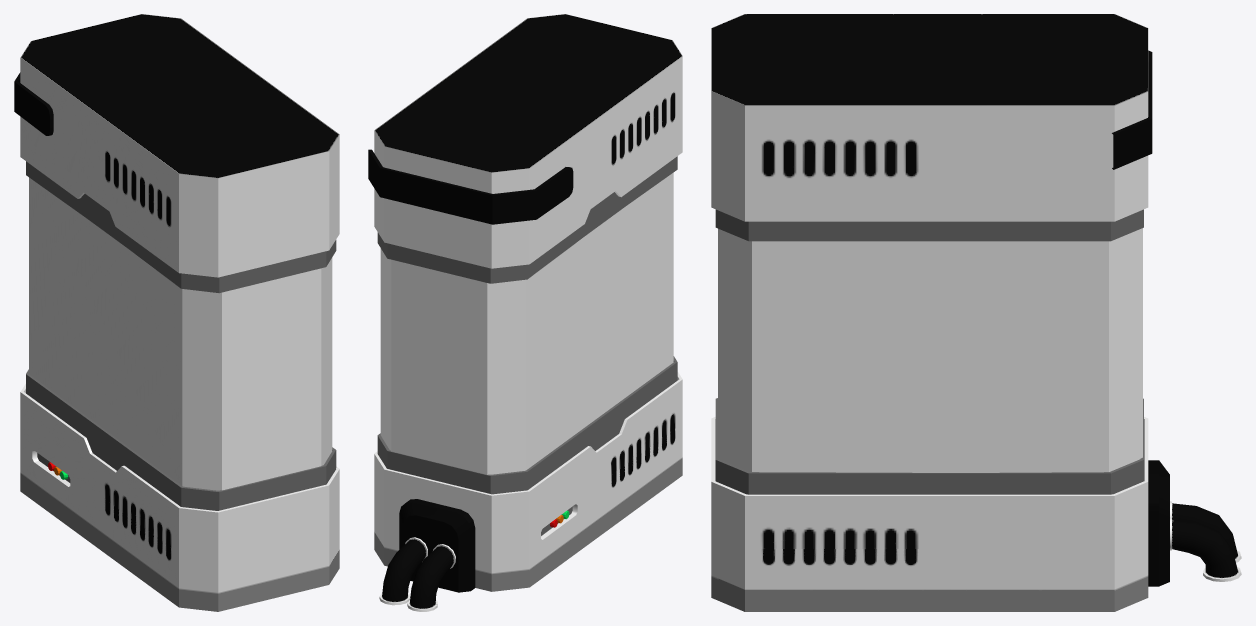
File: lab_capsula_plantas.fbx
3 renders of one model, left to right at view 1: azimuth 30°, elevation 25°; view 2: azimuth 150°, elevation 25°; view 3: azimuth 270°, elevation 25°, orthographic. The views are drawn at different scales.
Parts seen in each view (by area): view 1: base, vidrio; view 2: base, vidrio; view 3: base, vidrio.
Part boxes in pixels (bbox=[...]): base: bbox=[14, 14, 339, 611]; vidrio: bbox=[29, 177, 332, 490]; base: bbox=[368, 14, 682, 611]; vidrio: bbox=[380, 172, 673, 474]; base: bbox=[711, 14, 1241, 611]; vidrio: bbox=[718, 228, 1142, 472].
Size of the model in its own units: 479 by 1133 by 1073.
2 materials, 2 textured.
